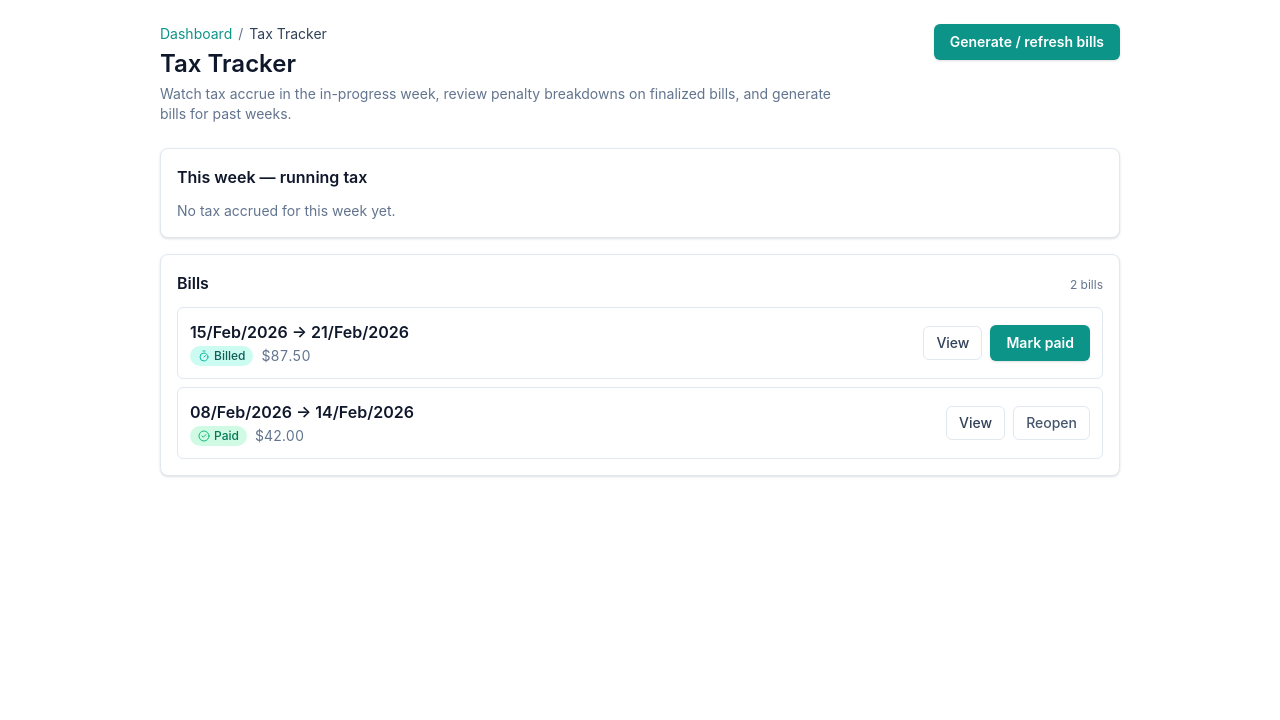
Test: TaxTrackerPage › renders a deleted frozen-week txn as a removal (after → Removed)
This screenshot has width=1280, height=720.
Expected: the list item with test id "bill-row-101" is shown, [177, 307, 1103, 379]
Step 1. Click the button "View" in the row of "15/Feb/2026" → [953, 343], box [923, 326, 982, 360]
(page scrolled)
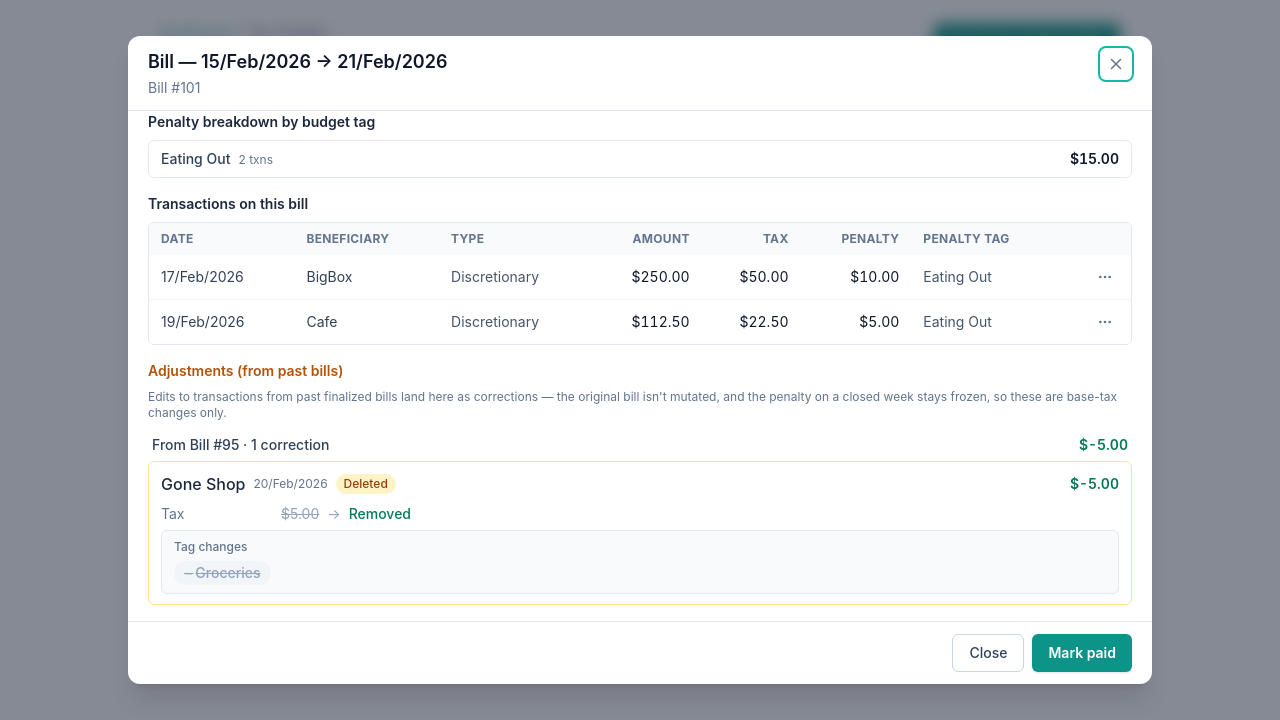
Now the element with test id "bill-adjustments" shows "Gone Shop", box [161, 474, 245, 494]
Now the element with test id "bill-adjustments" shows "Deleted", box [344, 476, 388, 491]
Now the element with test id "bill-adjustments" shows "Removed", box [349, 505, 411, 522]
